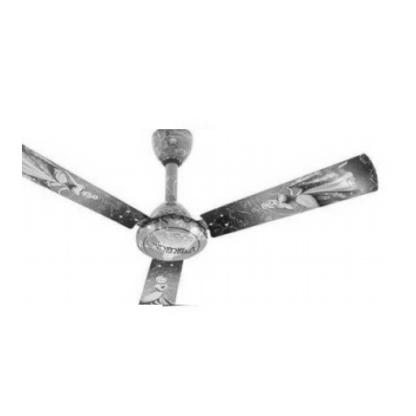ceiling-fan: (22, 129, 392, 306)
